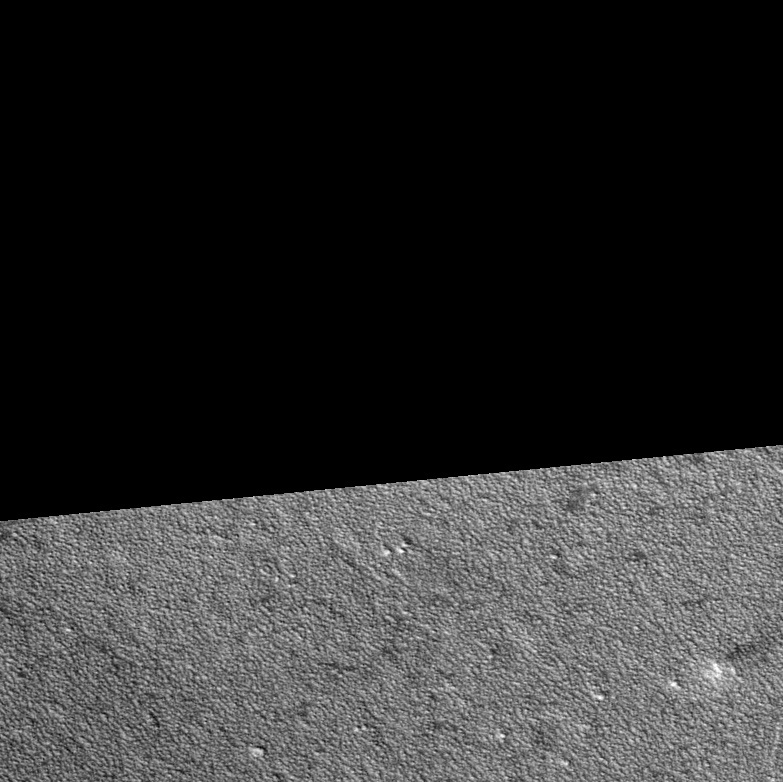dust_devil: (704, 636, 779, 681)
